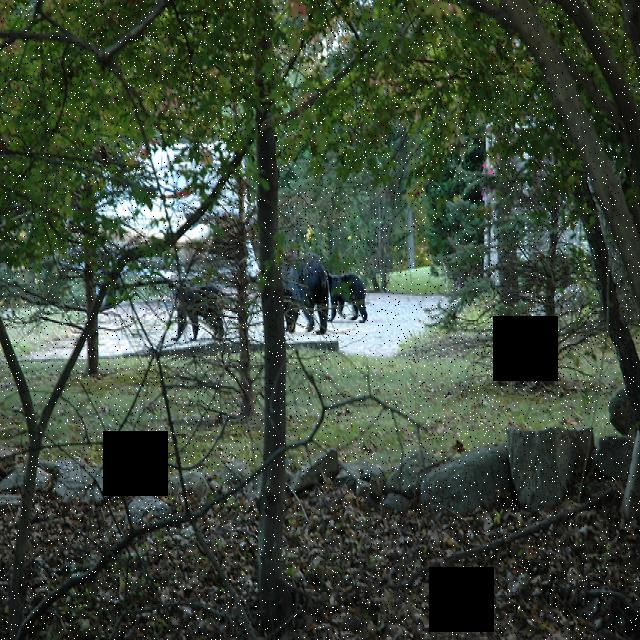Bear: (260, 250, 333, 333), (164, 273, 226, 342)
